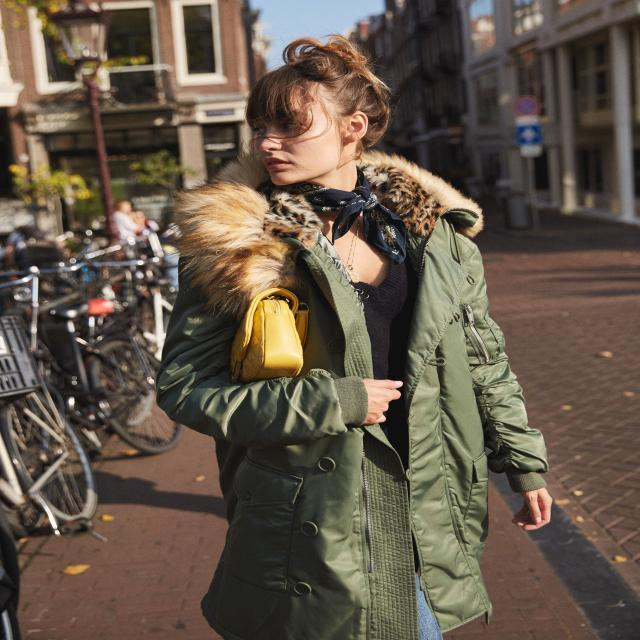coat: (152, 146, 554, 640)
vest: (347, 238, 417, 404)
